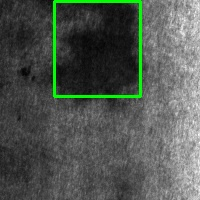patches: (54, 1, 140, 96)
